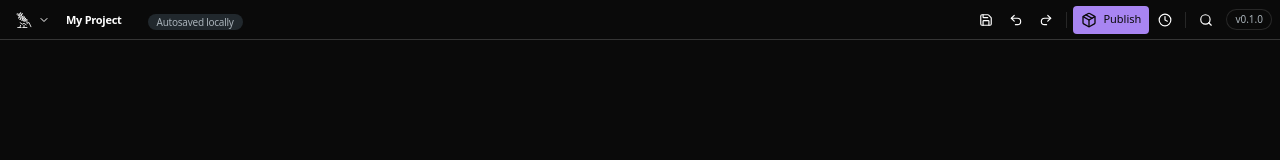
Scenario: Navbar inline rename (characterization) › Blur commits (when NOT preceded by Escape)
The image size is (1280, 160).
Click the button "My Project".
click(102, 20)  # box [62, 10, 142, 30]
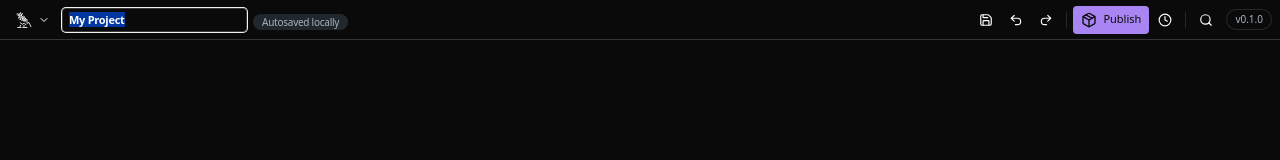
Replace the text in the field with "Blur Committed" at (154, 20), box [62, 8, 247, 32]
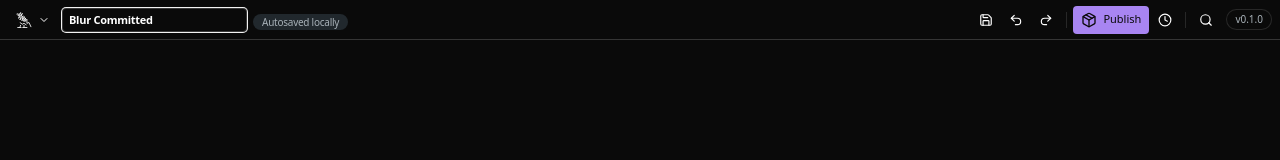
Leave the field, box [62, 8, 247, 32]
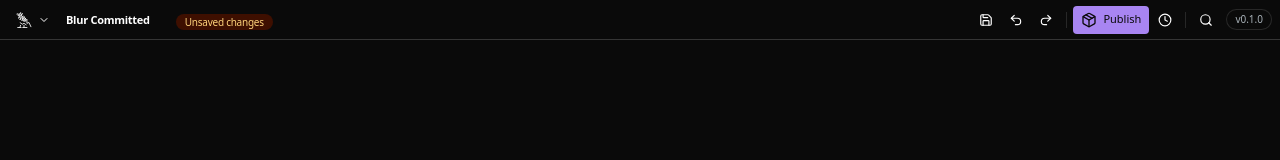
Result: the text "Blur Committed" is shown at [66, 12, 150, 28]
